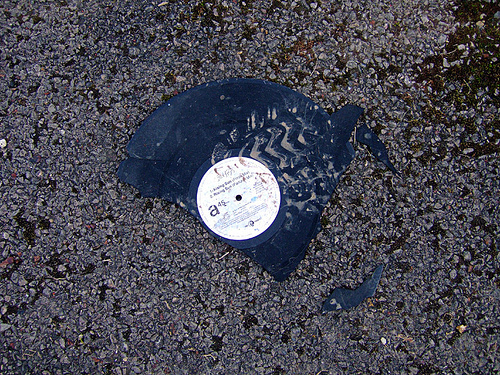litter: (115, 73, 357, 283), (327, 262, 382, 312), (357, 123, 397, 176)
